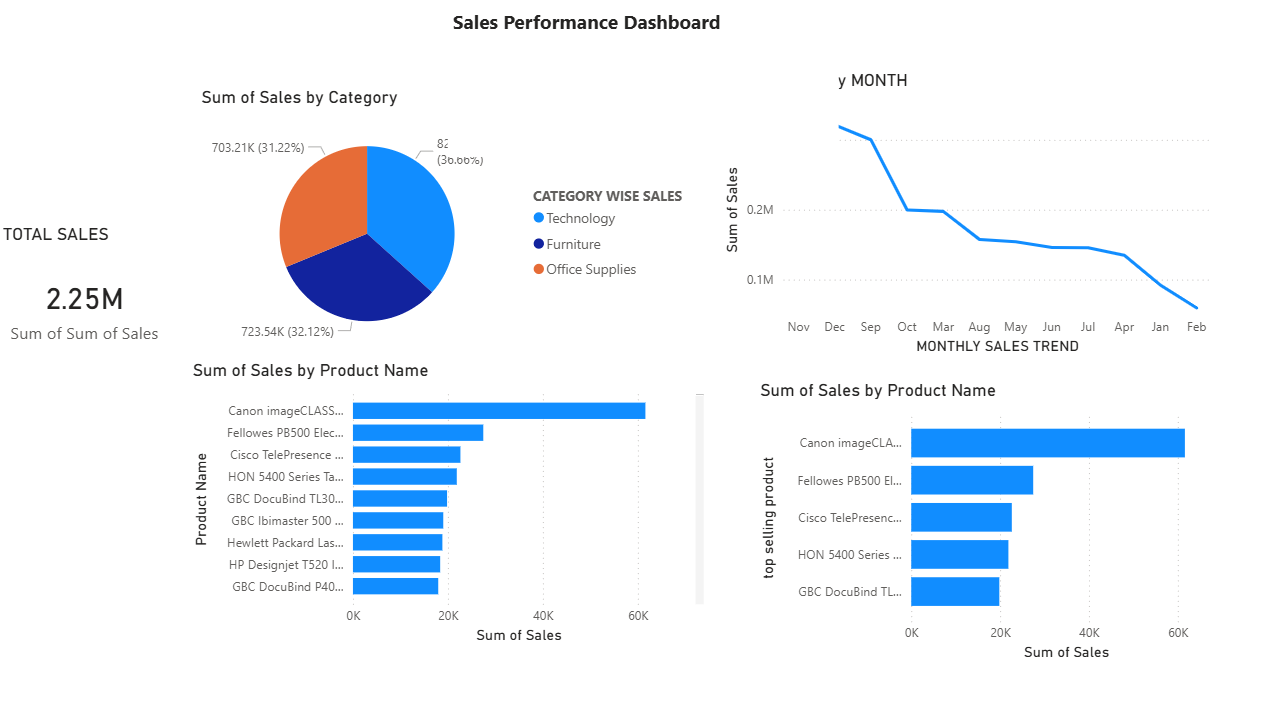

The page's visual inventory and layout, read from the dashboard file:
{"tool":"powerbi","page":{"name":"Page 1","canvas":[1280,720],"ordinal":0},"visuals":[{"type":"card","title":"TOTAL SALES","fields":{"Values":["Sum(total sales.Sum of Sales)"]},"box":[13.5,226.2,170,144.3],"z":0},{"type":"clusteredBarChart","fields":{"Category":["train.Product Name"],"Y":["Sum(train.Sales)"]},"box":[199.3,359.5,509.9,282.5],"z":1000},{"type":"pieChart","fields":{"Category":["train.Category"],"Y":["Sum(train.Sales)"]},"box":[207.9,92.9,489.1,266.6],"z":2000},{"type":"lineChart","fields":{"Category":["train.MONTH"],"Y":["Sum(train.Sales)"]},"box":[719,75.8,486.7,283.7],"z":3000},{"type":"clusteredBarChart","fields":{"Category":["train.Product Name"],"Y":["Sum(train.Sales)"]},"box":[754.5,379.1,472,280],"z":4000},{"type":"textbox","box":[453.7,10.4,382.1,150.7],"z":5000}]}

Visuals, with their boxes in screenshot pixels (x1, y1, x2, y2), scaled from the page's 1280x720 canvas onto the 1278x723 screenshot:
"TOTAL SALES" card: {"x1": 13, "y1": 227, "x2": 183, "y2": 372}
clusteredBarChart - train.Product Name x Sum(train.Sales): {"x1": 199, "y1": 361, "x2": 708, "y2": 645}
pieChart - train.Category x Sum(train.Sales): {"x1": 208, "y1": 93, "x2": 696, "y2": 361}
lineChart - train.MONTH x Sum(train.Sales): {"x1": 718, "y1": 76, "x2": 1204, "y2": 361}
clusteredBarChart - train.Product Name x Sum(train.Sales): {"x1": 753, "y1": 381, "x2": 1225, "y2": 662}
textbox: {"x1": 453, "y1": 10, "x2": 834, "y2": 162}
